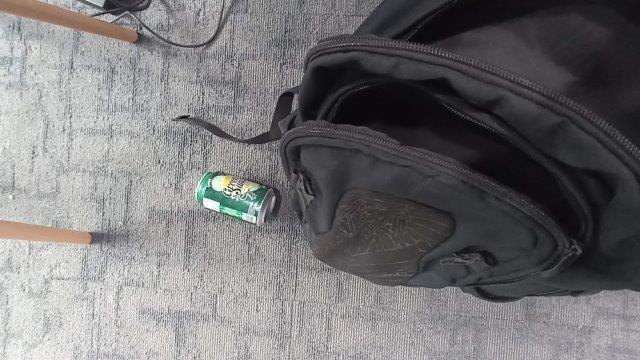kaleng: (195, 171, 276, 226)
